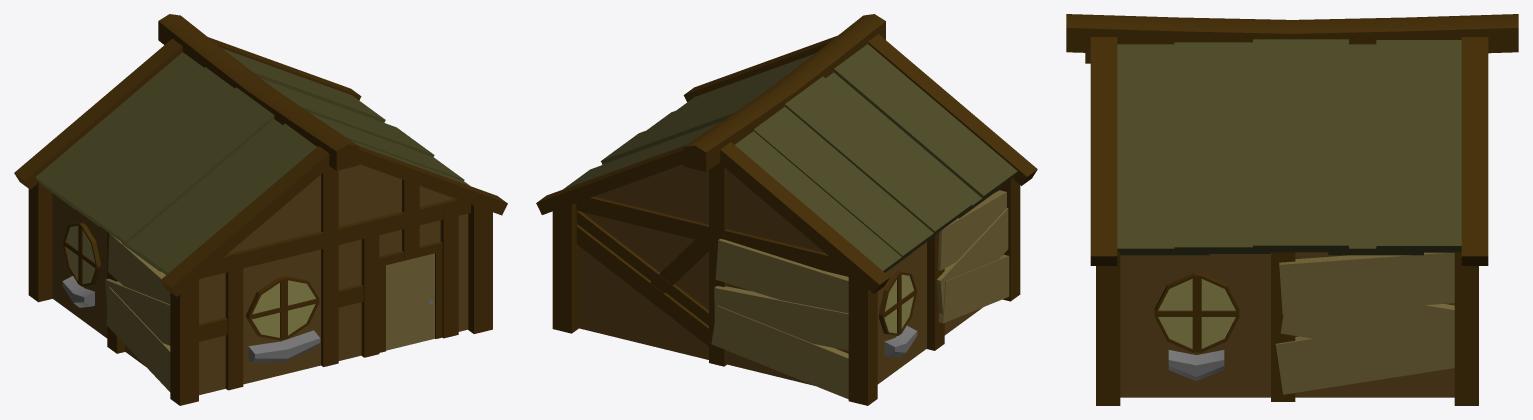
File: Mesh_Farm_Medium.fbx
The picture shows the model from 3 angles, left to right: view 1: azimuth 30°, elevation 25°; view 2: azimuth 150°, elevation 25°; view 3: azimuth 270°, elevation 25°; orthographic projection. The views are drawn at different scales.
Visible parts, largest first — view 1: Farm_Medium; view 2: Farm_Medium; view 3: Farm_Medium.
Boxes of the visible parts, x1=… form: Farm_Medium: x1=14, y1=14, x2=507, y2=405; Farm_Medium: x1=536, y1=14, x2=1037, y2=405; Farm_Medium: x1=1066, y1=14, x2=1518, y2=405.
Size of the model in its own units: 887 by 579 by 809.
Materials: 1 (1 with a texture image).
